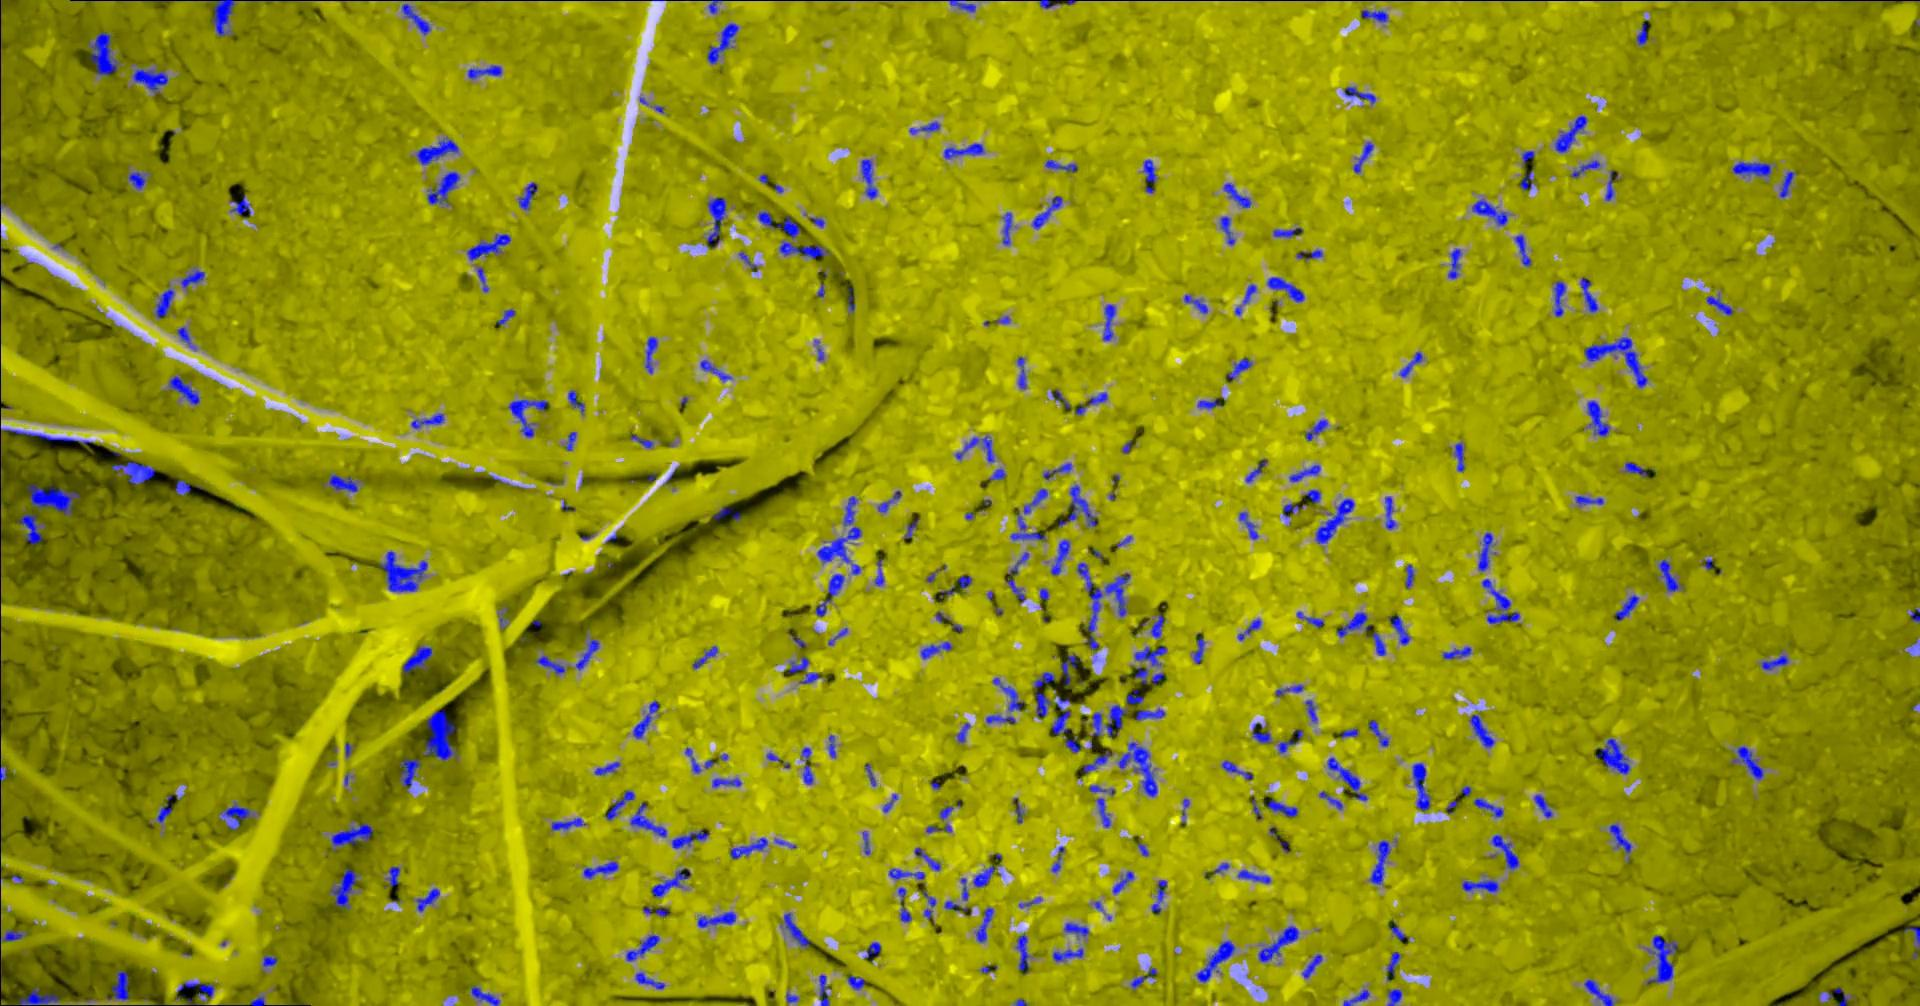ant: (1078, 561, 1131, 649), (1585, 337, 1650, 387), (819, 495, 862, 563), (1119, 741, 1159, 796), (381, 551, 429, 591), (1317, 498, 1356, 542), (1053, 695, 1083, 752), (1330, 757, 1369, 800), (1483, 578, 1521, 622), (1059, 484, 1098, 526), (1, 426, 94, 443), (425, 710, 458, 760), (1197, 940, 1236, 982), (29, 484, 81, 514), (1258, 925, 1300, 962), (509, 399, 549, 437), (1648, 935, 1679, 983), (90, 30, 119, 75), (709, 23, 740, 64), (331, 822, 375, 851), (1597, 738, 1632, 774), (1556, 116, 1589, 152), (631, 803, 668, 836), (469, 232, 512, 260), (817, 573, 844, 616), (331, 868, 361, 908), (759, 211, 803, 238), (653, 868, 692, 897), (1012, 507, 1046, 540), (428, 171, 461, 205), (418, 138, 460, 164), (957, 434, 996, 462), (112, 461, 157, 484), (1008, 553, 1030, 601), (634, 700, 660, 738), (1032, 196, 1064, 227), (1735, 746, 1765, 779), (994, 677, 1023, 711), (782, 912, 811, 946), (1269, 276, 1305, 302), (403, 3, 432, 36), (1035, 672, 1057, 716), (1492, 835, 1520, 869), (627, 934, 662, 962), (1473, 198, 1509, 225), (709, 197, 728, 246), (789, 655, 822, 683), (221, 801, 254, 829), (135, 69, 169, 95), (170, 375, 201, 404), (606, 790, 636, 819), (212, 0, 236, 36), (1415, 762, 1432, 810), (1611, 823, 1633, 862), (1371, 840, 1390, 884), (1470, 714, 1496, 747), (1338, 612, 1373, 636), (781, 241, 830, 258), (1589, 400, 1611, 436), (404, 647, 433, 673), (19, 513, 44, 544), (731, 837, 770, 857), (1585, 979, 1615, 1005), (577, 639, 601, 669), (1077, 392, 1109, 415), (1660, 559, 1683, 591), (20, 987, 61, 1005), (1084, 748, 1112, 774), (673, 829, 710, 848), (1062, 653, 1083, 685), (1051, 539, 1070, 574), (977, 907, 996, 942), (1225, 183, 1253, 207), (862, 159, 879, 199), (1107, 704, 1128, 737), (108, 970, 131, 1000), (1354, 141, 1375, 171), (701, 359, 733, 380), (1615, 594, 1641, 620), (401, 758, 423, 788), (157, 793, 179, 822), (157, 285, 177, 318), (698, 911, 737, 927), (945, 144, 985, 159), (1479, 531, 1495, 572), (1228, 358, 1253, 382), (1025, 488, 1049, 513), (1401, 351, 1423, 377), (1265, 799, 1299, 817), (916, 847, 942, 870), (1223, 760, 1255, 779), (1390, 615, 1411, 644), (472, 984, 502, 1005), (1582, 276, 1599, 311), (1280, 729, 1304, 753), (1137, 647, 1167, 666), (178, 982, 216, 997), (1131, 967, 1158, 988), (1239, 511, 1260, 539), (585, 861, 620, 878), (1345, 86, 1377, 104), (1290, 464, 1322, 481), (1735, 161, 1771, 177), (1476, 798, 1505, 817), (695, 645, 719, 668), (417, 888, 441, 911), (1708, 295, 1735, 315), (536, 655, 566, 673), (1370, 719, 1390, 746), (411, 413, 446, 428), (1153, 879, 1168, 913), (879, 490, 903, 512), (1572, 159, 1601, 177), (330, 474, 359, 492), (1103, 304, 1117, 340), (922, 641, 952, 658), (1905, 926, 1920, 959), (521, 182, 538, 210), (637, 972, 665, 989), (1247, 459, 1269, 481), (1239, 619, 1262, 640), (1114, 871, 1135, 894), (1305, 419, 1330, 439), (686, 747, 703, 774), (1463, 879, 1500, 892), (1303, 954, 1323, 977), (1239, 869, 1272, 883), (1185, 293, 1209, 312), (1368, 631, 1387, 655), (552, 817, 588, 829), (1018, 934, 1030, 973), (1517, 234, 1531, 265), (1298, 611, 1324, 627), (975, 865, 996, 887), (469, 65, 503, 77), (1321, 790, 1343, 809), (182, 269, 206, 287), (1449, 248, 1463, 278), (1045, 464, 1073, 479), (1098, 796, 1112, 827), (1054, 948, 1084, 962), (1343, 989, 1371, 1005), (1556, 279, 1567, 316), (648, 337, 659, 373), (803, 747, 814, 784), (1144, 159, 1157, 192), (1537, 794, 1554, 817), (890, 868, 926, 879), (1829, 987, 1851, 1005), (1046, 159, 1078, 171), (569, 390, 585, 414), (1222, 216, 1236, 244), (714, 506, 742, 520), (910, 121, 941, 133), (1053, 389, 1072, 409), (924, 889, 937, 920), (1385, 495, 1397, 528), (1763, 655, 1789, 669), (1388, 951, 1401, 981), (1625, 462, 1650, 478), (232, 196, 251, 215), (1255, 721, 1272, 742), (1782, 171, 1796, 197), (1277, 683, 1305, 696), (596, 761, 621, 775), (1608, 169, 1619, 199), (1195, 633, 1206, 663), (1363, 9, 1389, 22), (740, 251, 758, 271), (1053, 846, 1065, 873), (1065, 922, 1090, 936), (178, 326, 194, 347), (1444, 647, 1473, 658), (1137, 708, 1166, 719), (1018, 356, 1029, 387), (1284, 503, 1307, 517), (1152, 614, 1166, 636), (1131, 666, 1149, 683), (820, 974, 830, 1005), (477, 267, 490, 291), (950, 0, 977, 11), (1275, 227, 1304, 238), (130, 171, 146, 189), (1004, 212, 1013, 245), (1638, 19, 1650, 44), (884, 793, 899, 812), (1015, 796, 1026, 822), (1, 929, 24, 941), (957, 721, 971, 742), (1521, 169, 1534, 191), (632, 434, 654, 447), (499, 307, 516, 324), (866, 941, 883, 958), (1298, 249, 1324, 259), (1128, 688, 1145, 704), (987, 714, 1017, 723), (712, 779, 743, 788), (644, 906, 670, 916), (1244, 285, 1258, 304), (905, 520, 919, 539), (1390, 925, 1410, 939), (1307, 699, 1318, 721), (866, 763, 877, 786), (1457, 442, 1465, 471), (389, 866, 401, 887), (177, 479, 192, 495), (1577, 495, 1605, 504), (876, 558, 885, 586), (850, 976, 867, 989), (1199, 398, 1223, 408), (1093, 711, 1103, 735), (1090, 785, 1116, 794), (1305, 489, 1322, 503), (1389, 988, 1403, 1005), (989, 467, 1007, 480), (946, 901, 971, 909), (1406, 564, 1415, 588), (928, 823, 952, 832), (941, 805, 954, 821), (264, 954, 279, 967), (963, 876, 970, 901), (959, 575, 973, 588), (568, 431, 577, 450), (1040, 0, 1062, 8), (710, 0, 723, 13), (902, 906, 912, 921), (251, 995, 267, 1005), (850, 287, 856, 311), (1911, 606, 1920, 622), (1342, 728, 1359, 737), (830, 734, 837, 757)
